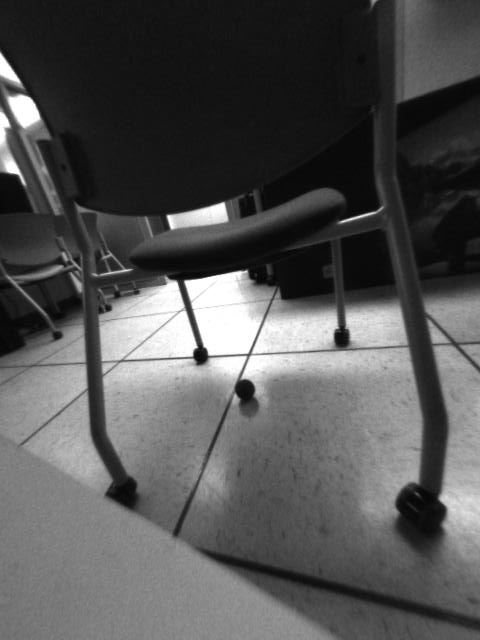dogtoy: (227, 372, 264, 406)
